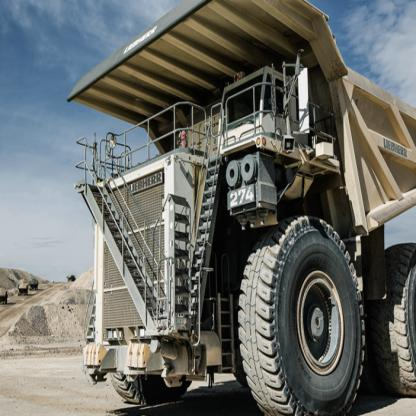dump_truck: (51, 1, 415, 413)
